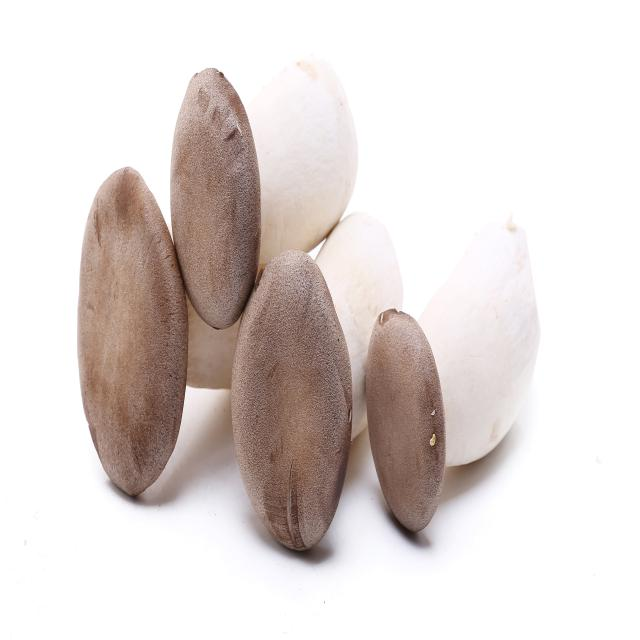Pleurotus eryngii: (233, 194, 400, 571), (80, 164, 232, 555), (361, 220, 543, 525), (170, 60, 370, 274)
